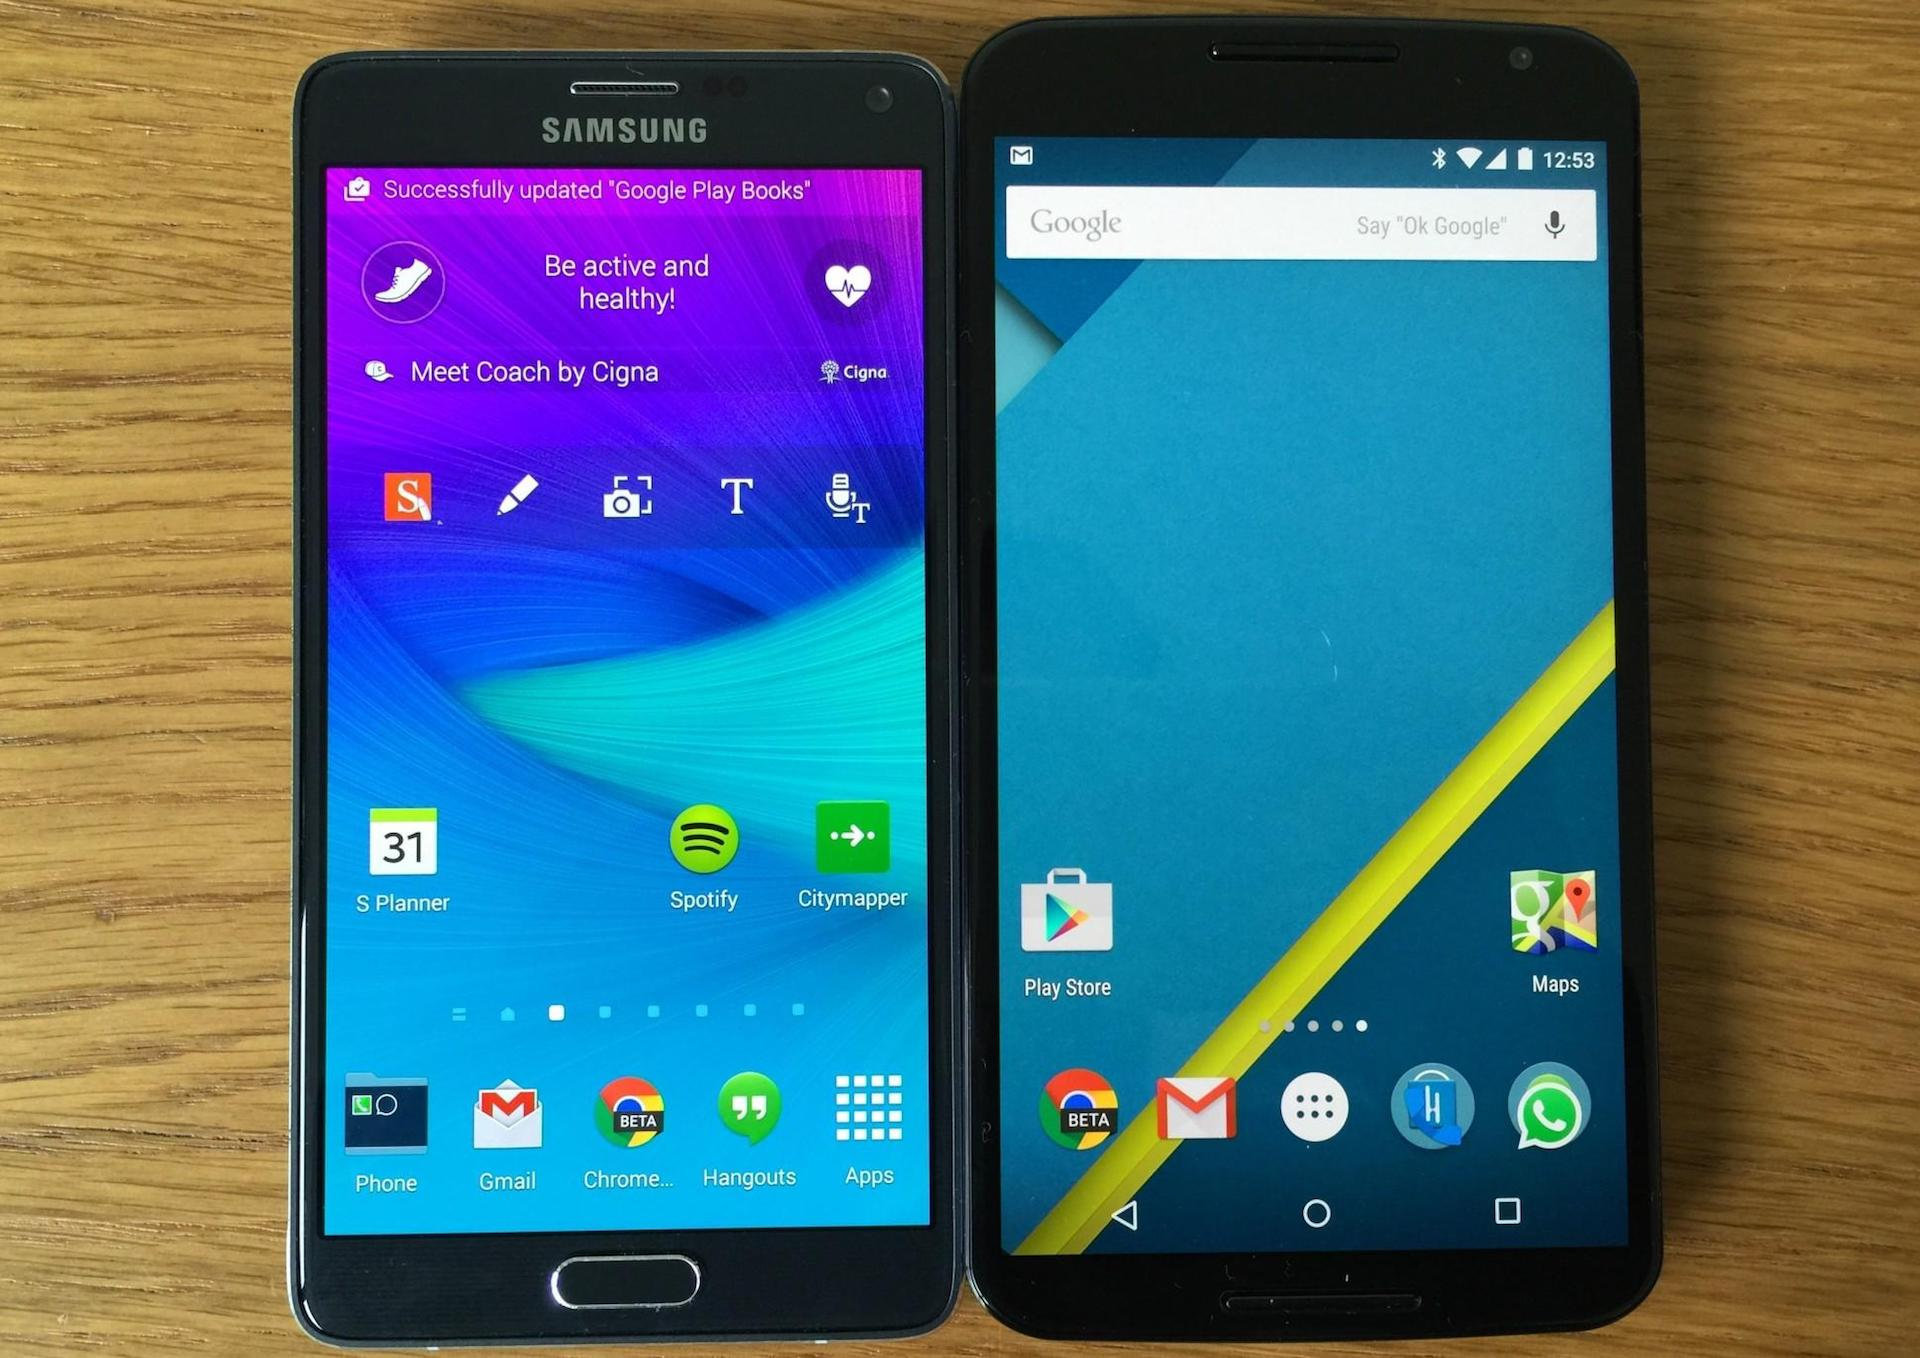smartphone: (959, 13, 1669, 1342), (288, 46, 961, 1342)
